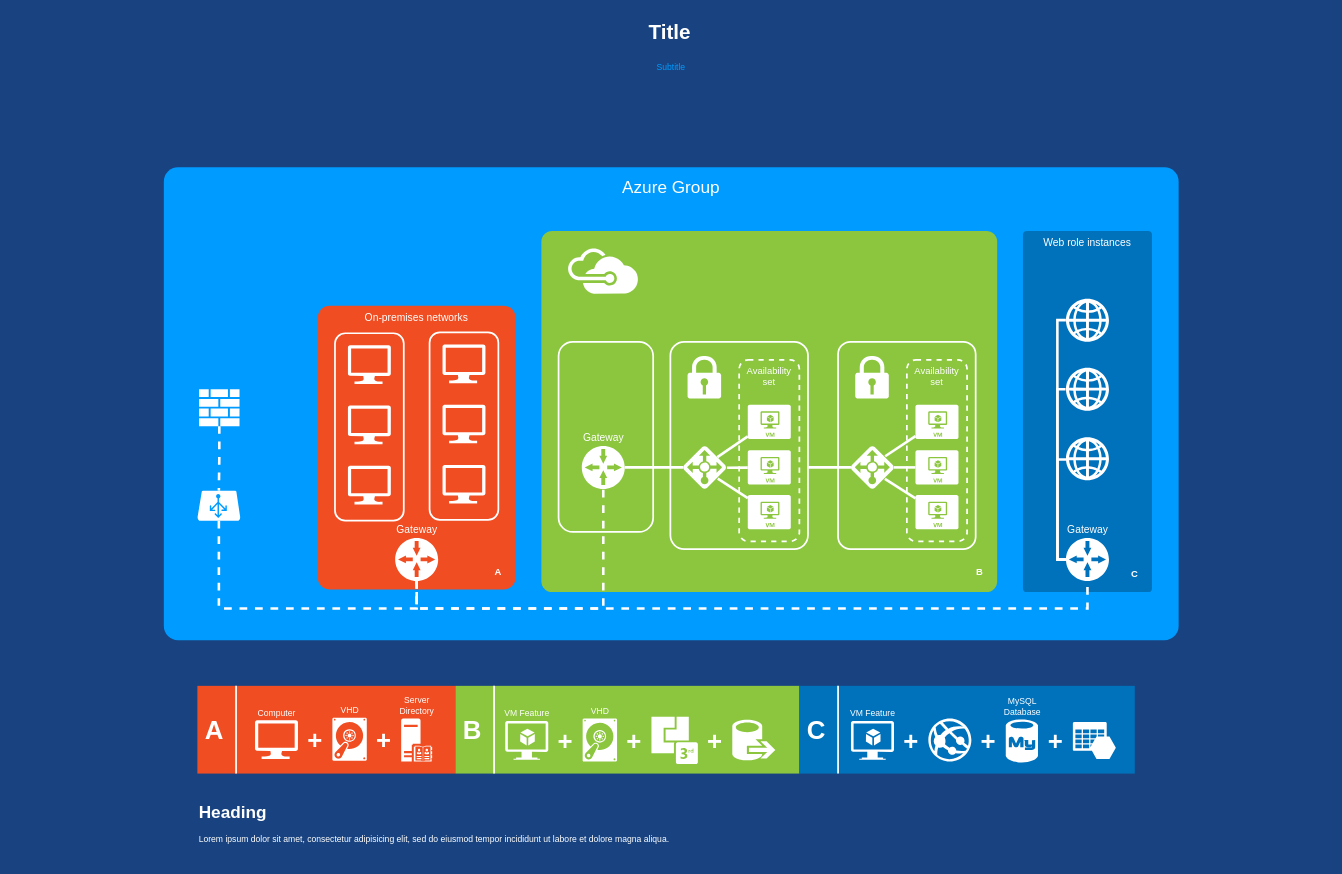
Image size: 1342x874. Some labels were removed from this diagram. Each missing label, with the centre of its shape:
3rd Party Integration: (674,740)
Azure Storage: (1093,740)
Azure Vnet: (602,270)
Azure Website: (949,739)
Data Migration Wizard: (753,739)
Firewall: (219,407)
Windows Azure Load Balancer: (218,505)
